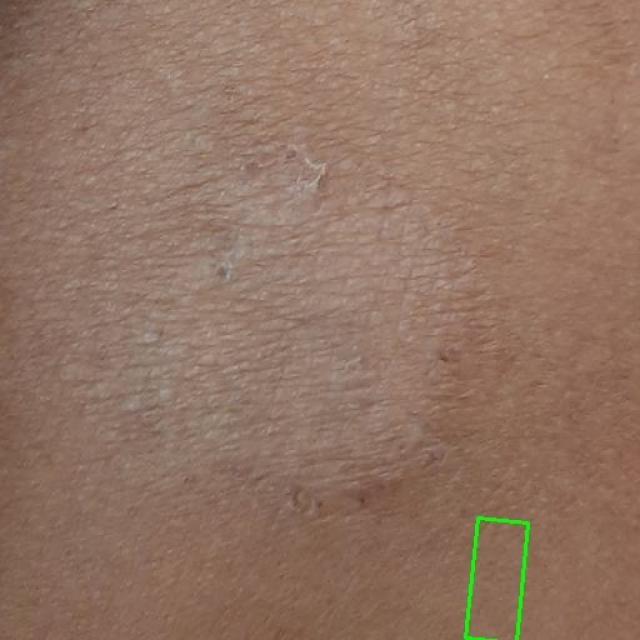Tinea Corporis: (466, 518, 528, 640)
